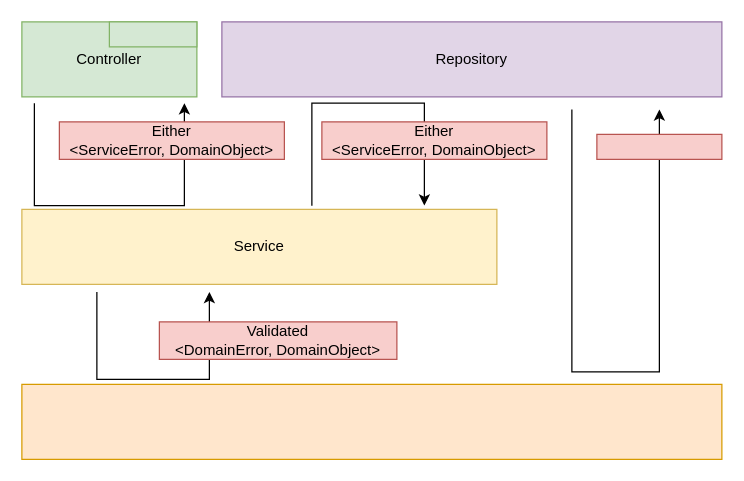
Image size: 744x481. Some labels were removed from this diagram. Each missing label, with the centre of its shape:
"Domain" goes at (x=371, y=421).
"DomainObject" goes at (x=659, y=146).
"Response" goes at (x=152, y=34).
